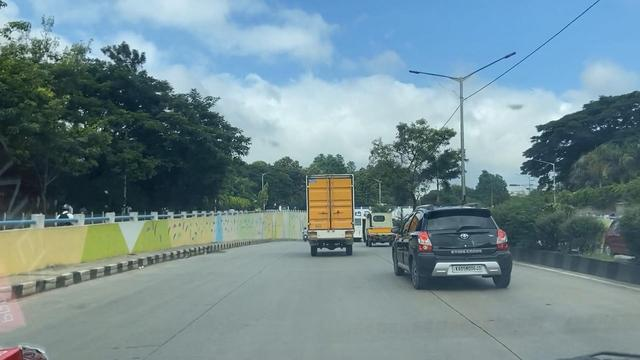HMV: (306, 177, 353, 254)
LMV: (394, 208, 512, 292)
